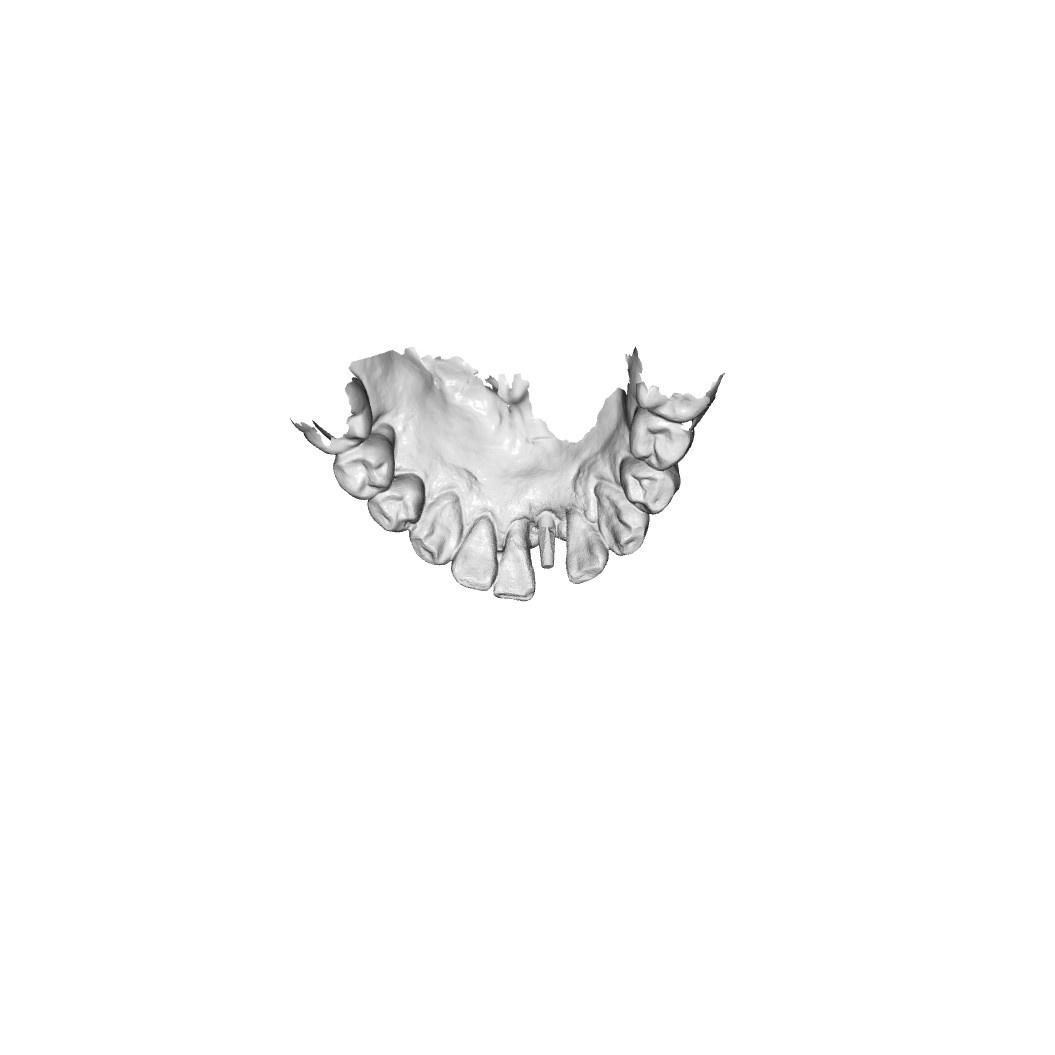abutment: (533, 504, 562, 570)
incisor: (598, 484, 651, 555), (418, 501, 463, 565), (566, 512, 605, 583), (456, 525, 496, 591), (500, 530, 536, 601)
premolar: (333, 439, 392, 497), (633, 413, 691, 468), (373, 479, 422, 531), (627, 465, 680, 513)
